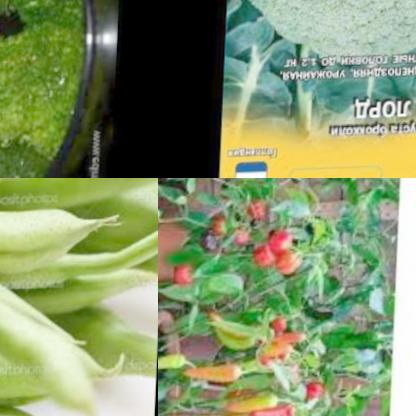beans: (0, 178, 158, 416)
broccoli: (0, 0, 87, 178), (228, 0, 416, 66)
hot pepper: (164, 315, 317, 416), (238, 214, 318, 292), (164, 217, 230, 291)
